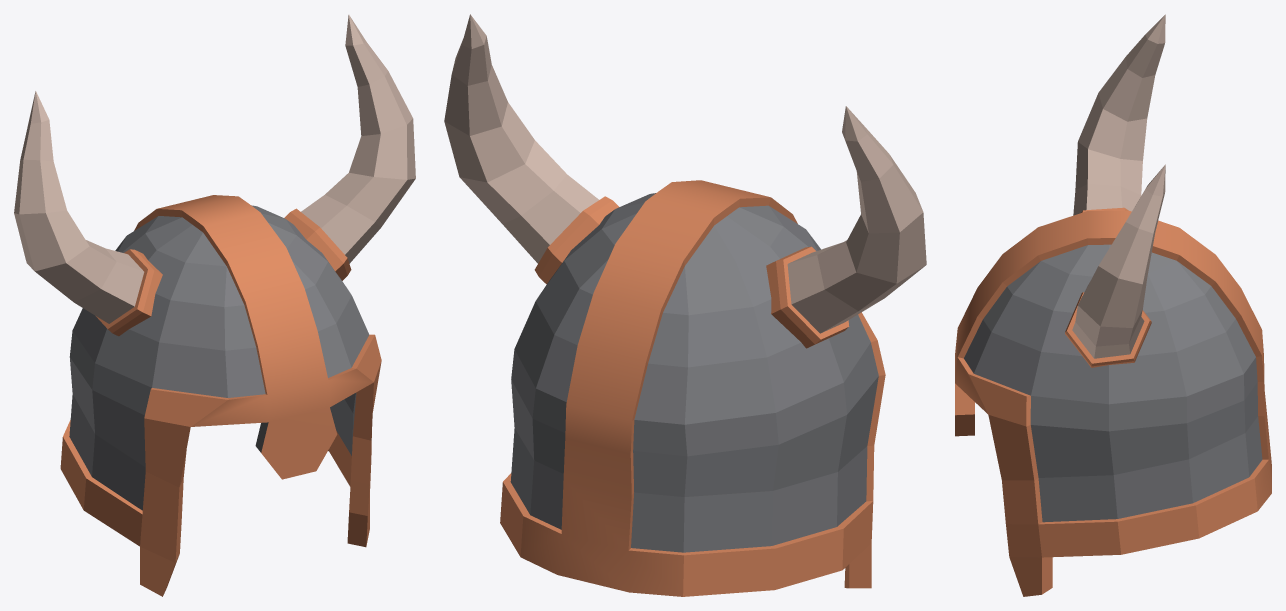
The model's file is viking_helmet.fbx.
3 renders of one model, left to right at view 1: azimuth 30°, elevation 25°; view 2: azimuth 150°, elevation 25°; view 3: azimuth 270°, elevation 25°, orthographic. The views are drawn at different scales.
Parts seen in each view (by area): view 1: pSphere4; view 2: pSphere4; view 3: pSphere4.
Boxes of the visible parts, x1,y1,x2,y2 form: pSphere4: (14, 14, 415, 596); pSphere4: (444, 14, 926, 596); pSphere4: (955, 14, 1271, 596).
Size of the model in its own units: 0.874 by 0.9901 by 0.6193.
1 material, 1 textured.
